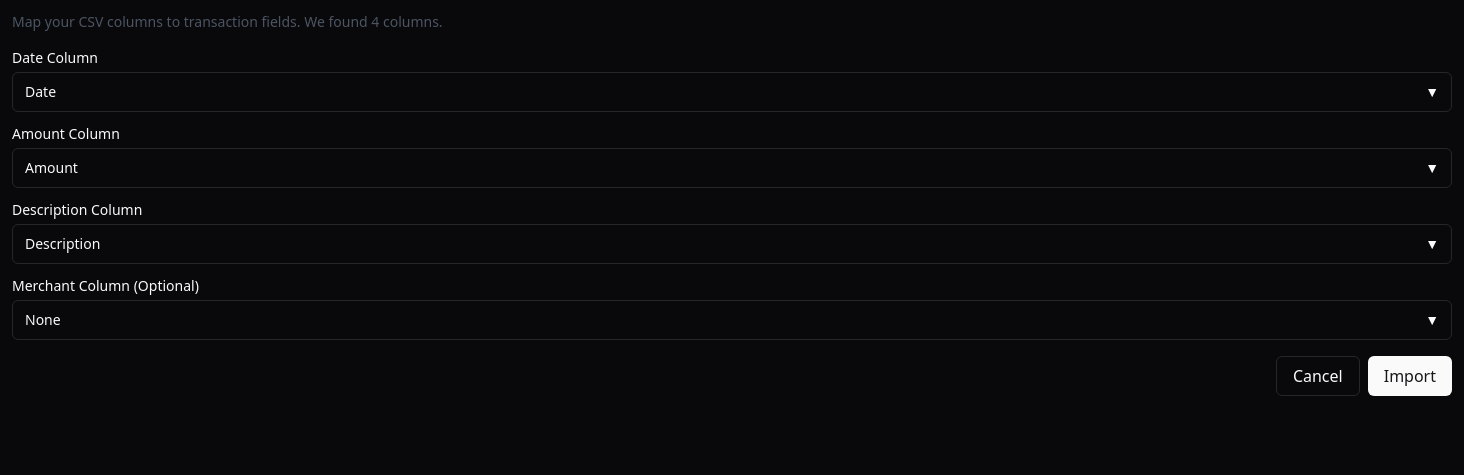
Scenario: ColumnMappingForm › Import Functionality › should show error message on failed import
Click the button "Import" at (1410,376), box left=1368, top=356, right=1452, bottom=396
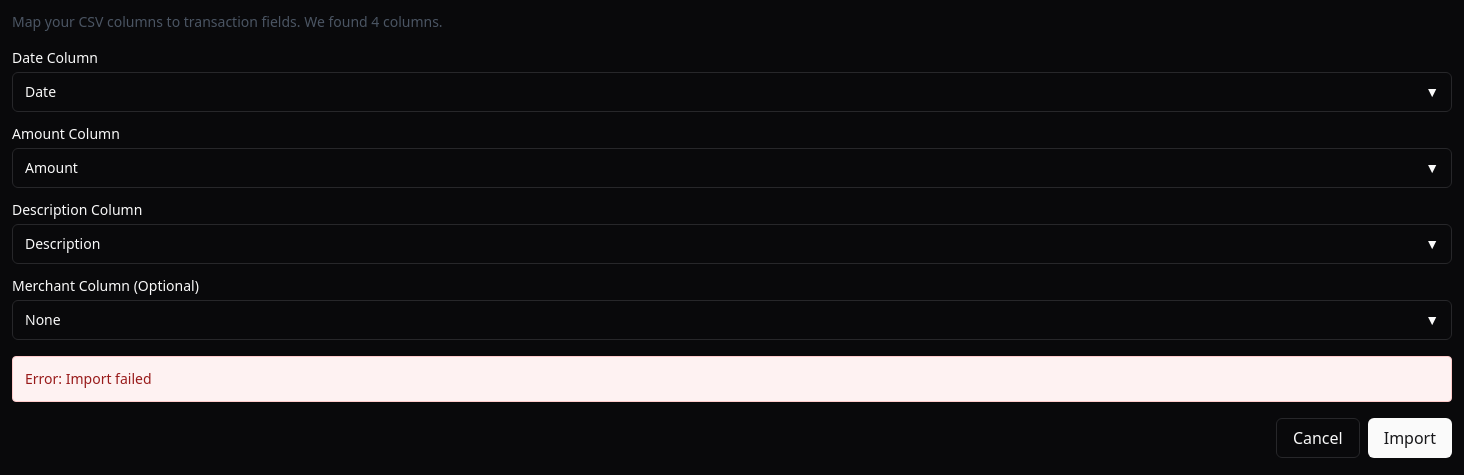
Now the text "Error: Import failed" is shown, box left=12, top=356, right=1452, bottom=402
